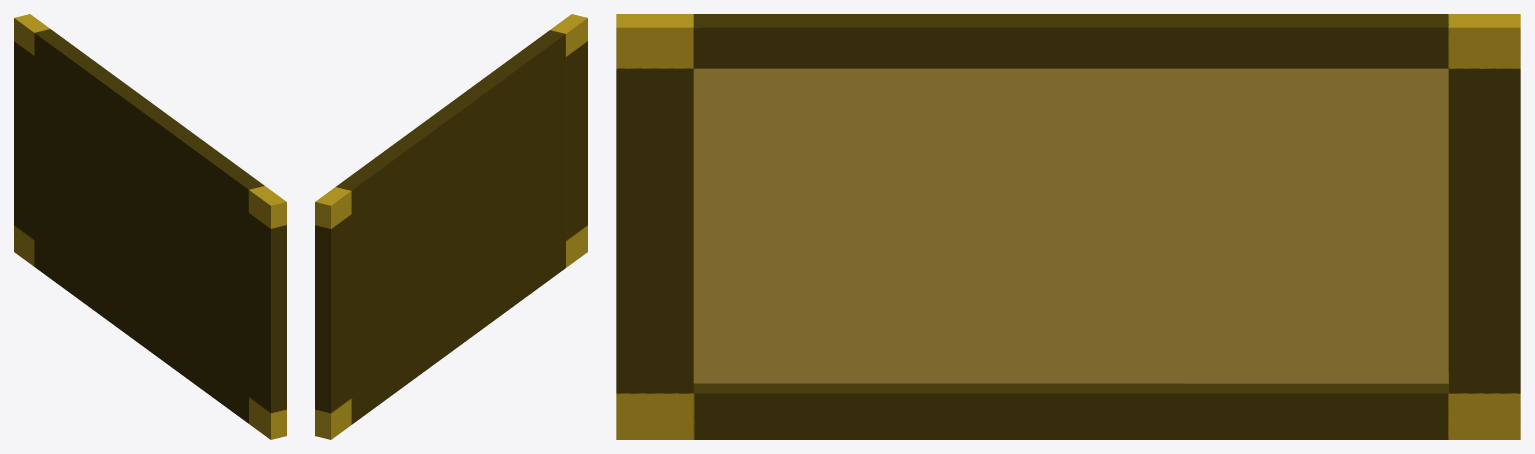
File: Finalscreens.fbx
3 renders of one model, left to right at view 1: azimuth 30°, elevation 25°; view 2: azimuth 150°, elevation 25°; view 3: azimuth 270°, elevation 25°, orthographic. The views are drawn at different scales.
Parts seen in each view (by area): view 1: Cube; view 2: Cube; view 3: Cube.
Boxes of the visible parts, bbox=[...] form: Cube: bbox=[14, 14, 286, 439]; Cube: bbox=[315, 14, 587, 439]; Cube: bbox=[616, 14, 1520, 439].
Bounding box in the file's own units: 3.4 × 47.32 × 94.07.
1 material, 1 textured.
